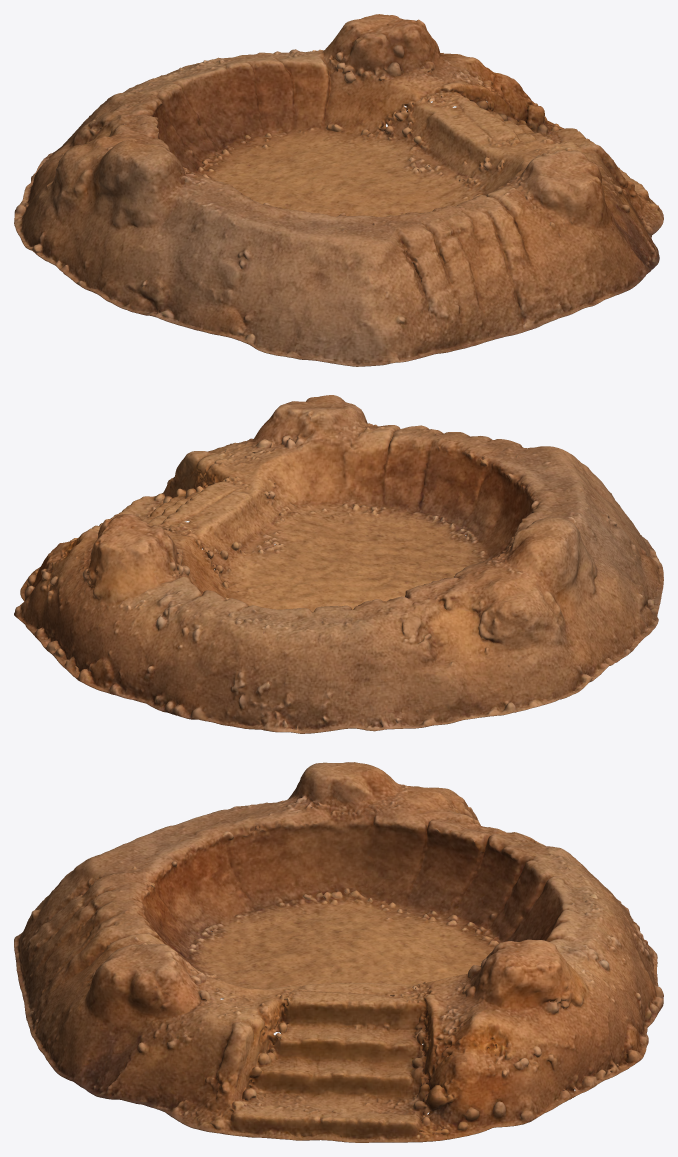
File: claypit.glb
The picture shows the model from 3 angles, top to bottom: view 1: azimuth 30°, elevation 25°; view 2: azimuth 150°, elevation 25°; view 3: azimuth 270°, elevation 25°; orthographic projection. The views are drawn at different scales.
Parts seen in each view (by area): view 1: world; view 2: world; view 3: world.
Part boxes in pixels (x1=…): world: x1=14, y1=14, x2=663, y2=366; world: x1=14, y1=395, x2=663, y2=733; world: x1=14, y1=762, x2=663, y2=1142.
Bounding box in the file's own units: 0.9997 × 0.2327 × 0.9855.
1 material, 1 textured.
